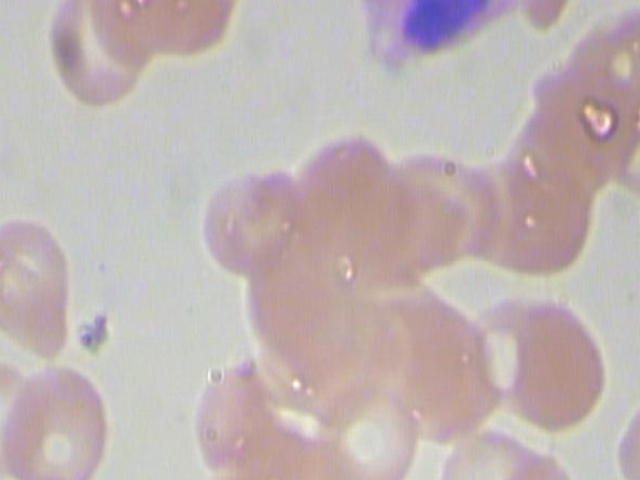Platelets: (348, 0, 530, 100)
RBC: (489, 286, 612, 439), (35, 0, 168, 117), (196, 152, 313, 282), (0, 354, 115, 480), (306, 364, 430, 480), (0, 207, 80, 364), (185, 351, 270, 480), (467, 442, 584, 480), (609, 374, 640, 480)
